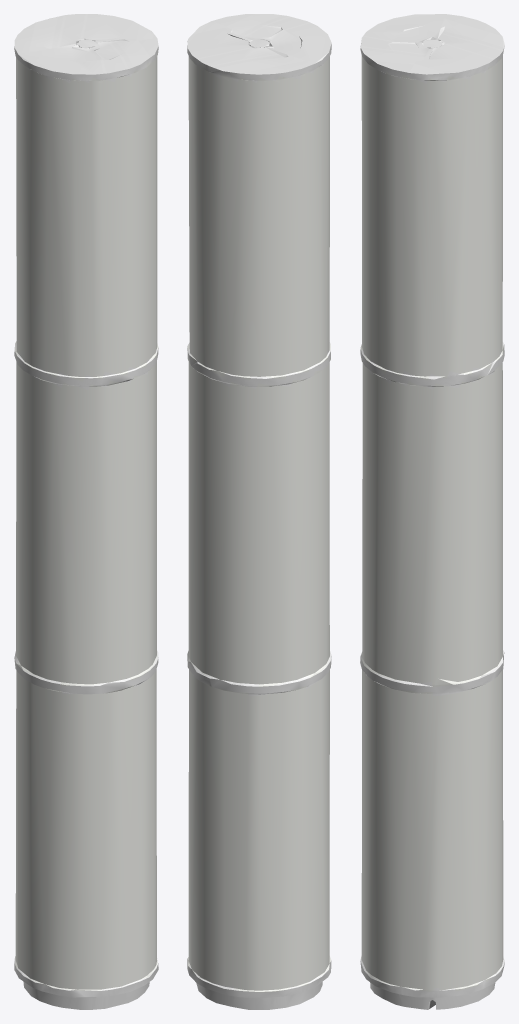
File: VIDJA floor lamp.glb
3 renders of one model, left to right at view 1: azimuth 30°, elevation 25°; view 2: azimuth 150°, elevation 25°; view 3: azimuth 270°, elevation 25°, orthographic.
Parts seen in each view (by area): view 1: ProcessedMeshNode; view 2: ProcessedMeshNode; view 3: ProcessedMeshNode.
Boxes of the visible parts, x1,y1,x2,y2 form: ProcessedMeshNode: (14, 14, 158, 1009); ProcessedMeshNode: (187, 14, 331, 1009); ProcessedMeshNode: (360, 14, 504, 1009).
Bounding box in the file's own units: 0.1923 × 1.38 × 0.1928.
Materials: 1 (1 with a texture image).
